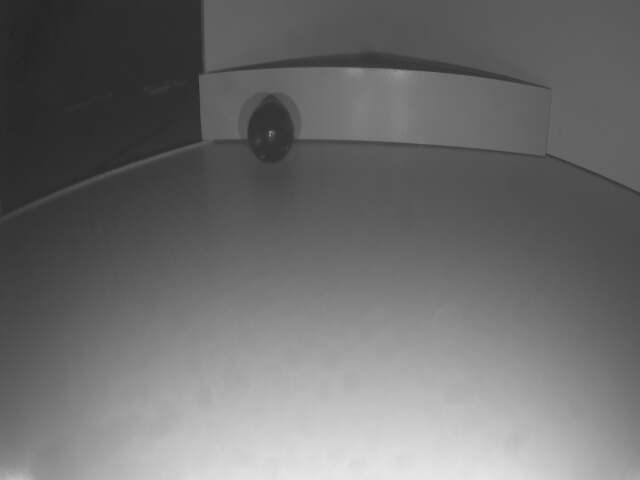Dead: (244, 103, 294, 162)
Red: (198, 74, 552, 158)
